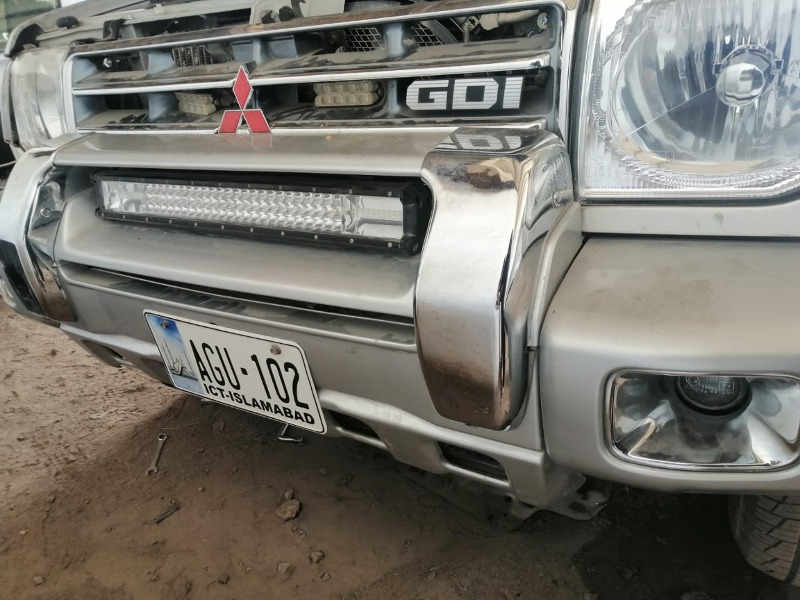License Plate: (143, 308, 328, 439)
